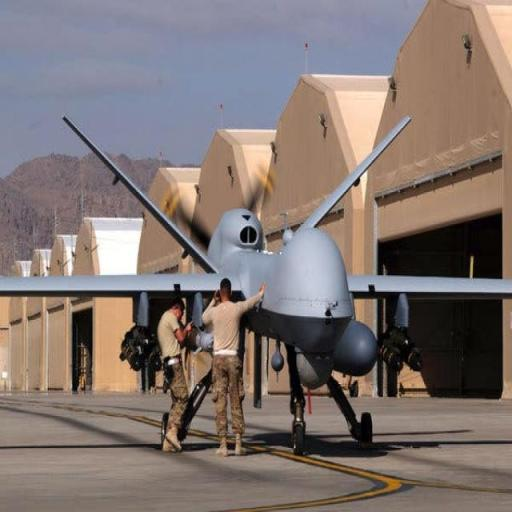uav: (0, 104, 504, 454)
